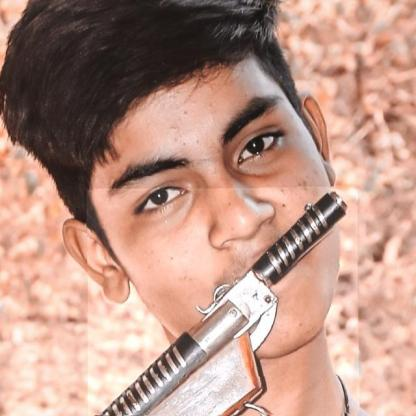handgun: (87, 187, 358, 416)
